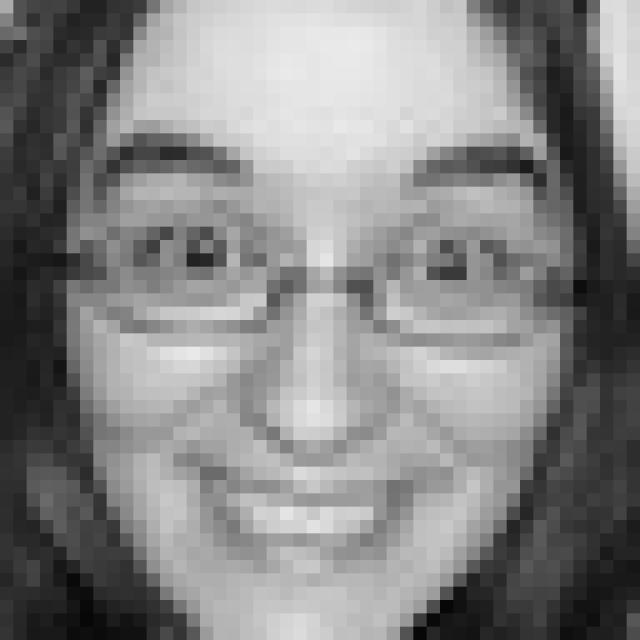happy: (96, 125, 550, 592)
